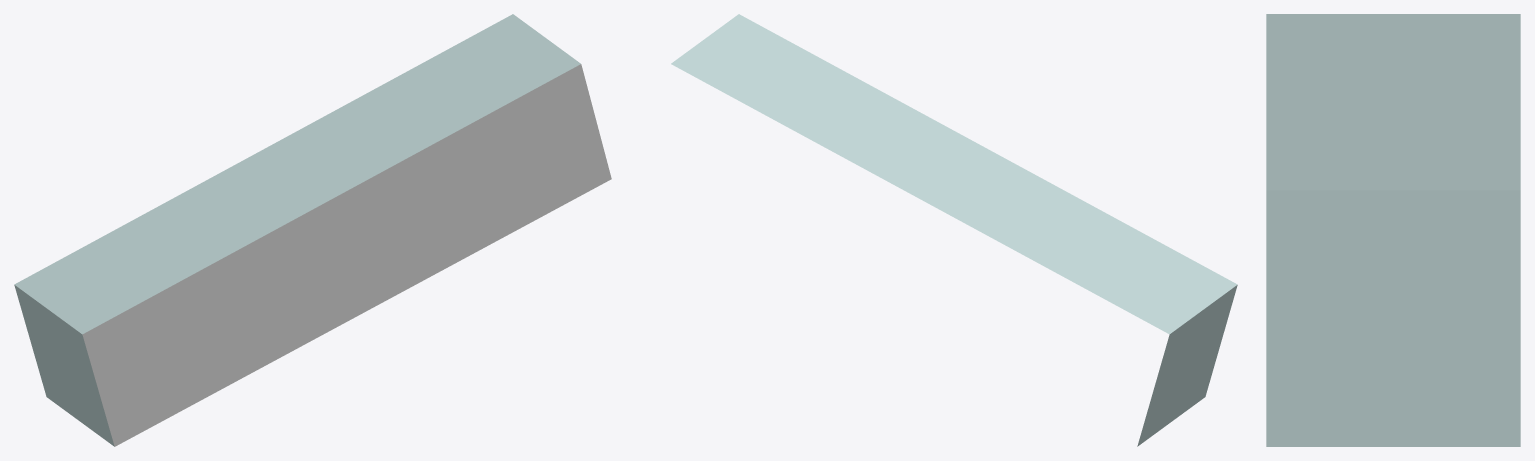
The picture shows the model from 3 angles, left to right: view 1: azimuth 30°, elevation 25°; view 2: azimuth 150°, elevation 25°; view 3: azimuth 270°, elevation 25°; orthographic projection. The views are drawn at different scales.
Visible parts, largest first — view 1: 0_2_2_3_1_2_1_1_2; view 2: 0_2_2_3_1_2_1_1_2; view 3: 0_2_2_3_1_2_1_1_2.
Boxes of the visible parts, box(x1,y1,x2,y2) form: 0_2_2_3_1_2_1_1_2: box(14, 14, 611, 446); 0_2_2_3_1_2_1_1_2: box(671, 14, 1237, 446); 0_2_2_3_1_2_1_1_2: box(1266, 14, 1520, 446).
Size of the model in its own units: 13.44 by 6.53 by 3.
